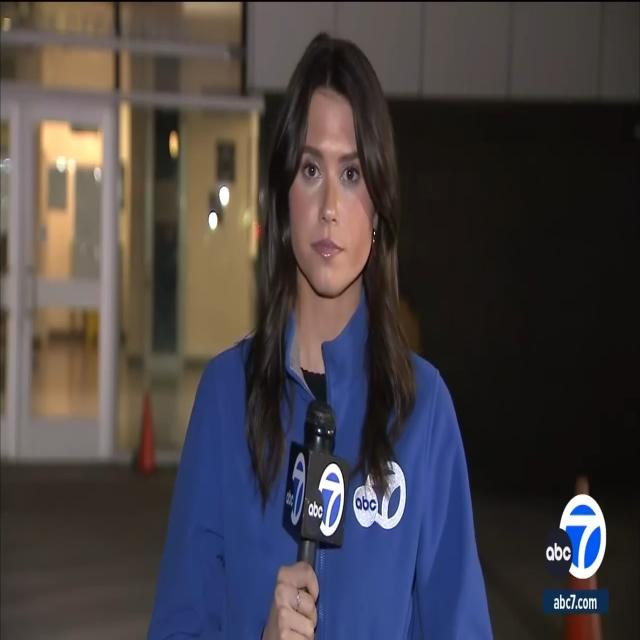microphone: (288, 396, 348, 628), (542, 490, 610, 618)
